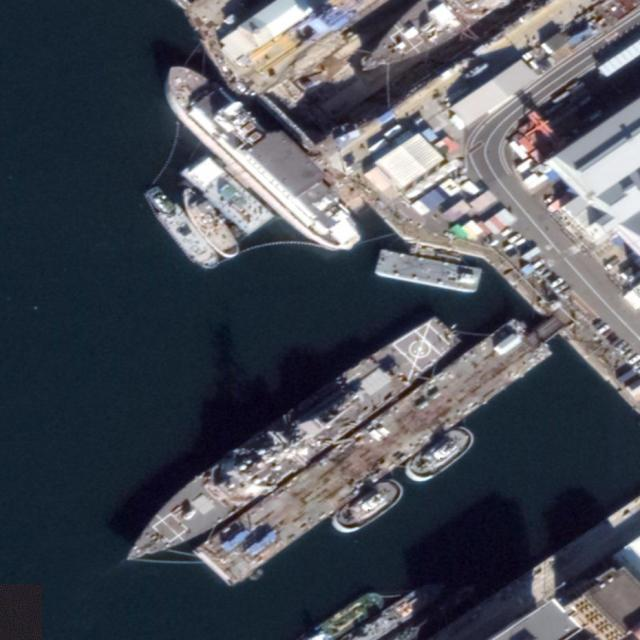Destroyer: (112, 306, 466, 580)
Dock: (192, 301, 565, 590)
Hovercraft: (327, 470, 411, 543), (400, 417, 480, 491)
Other Ship: (139, 180, 222, 280)
Other Warship: (149, 52, 373, 267), (175, 182, 246, 266)
